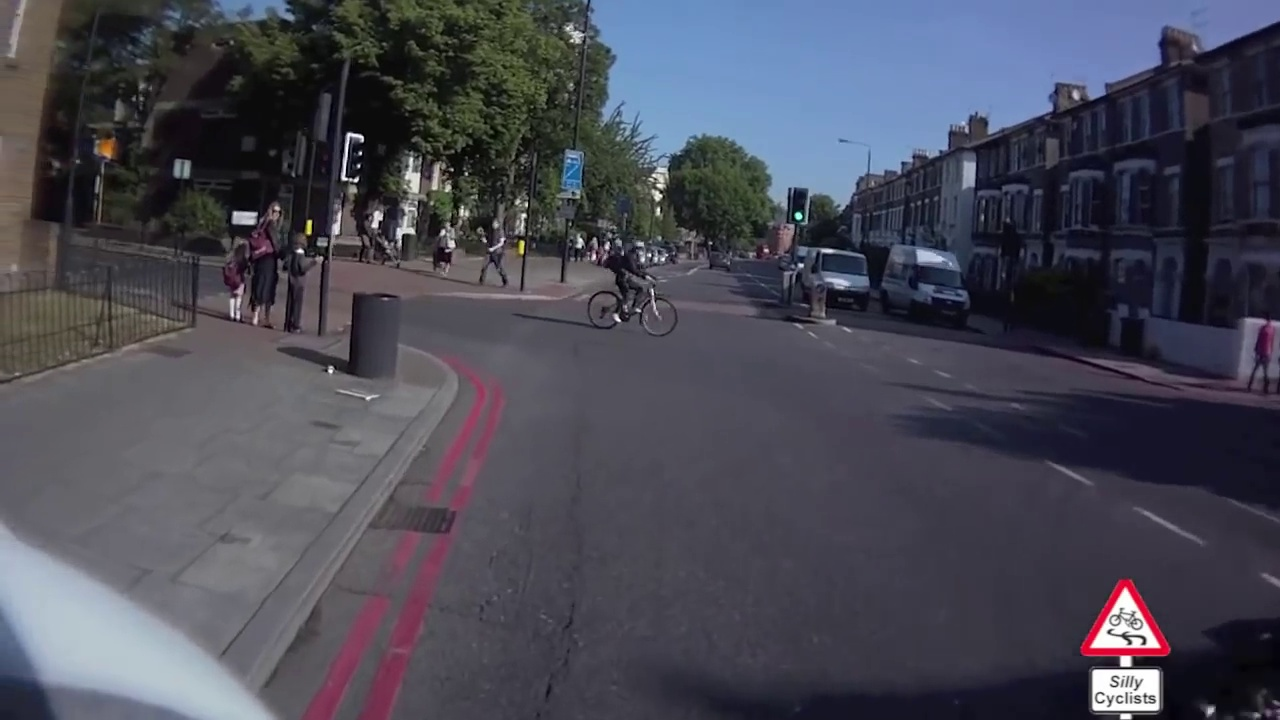cyclist_side: (585, 245, 684, 339)
